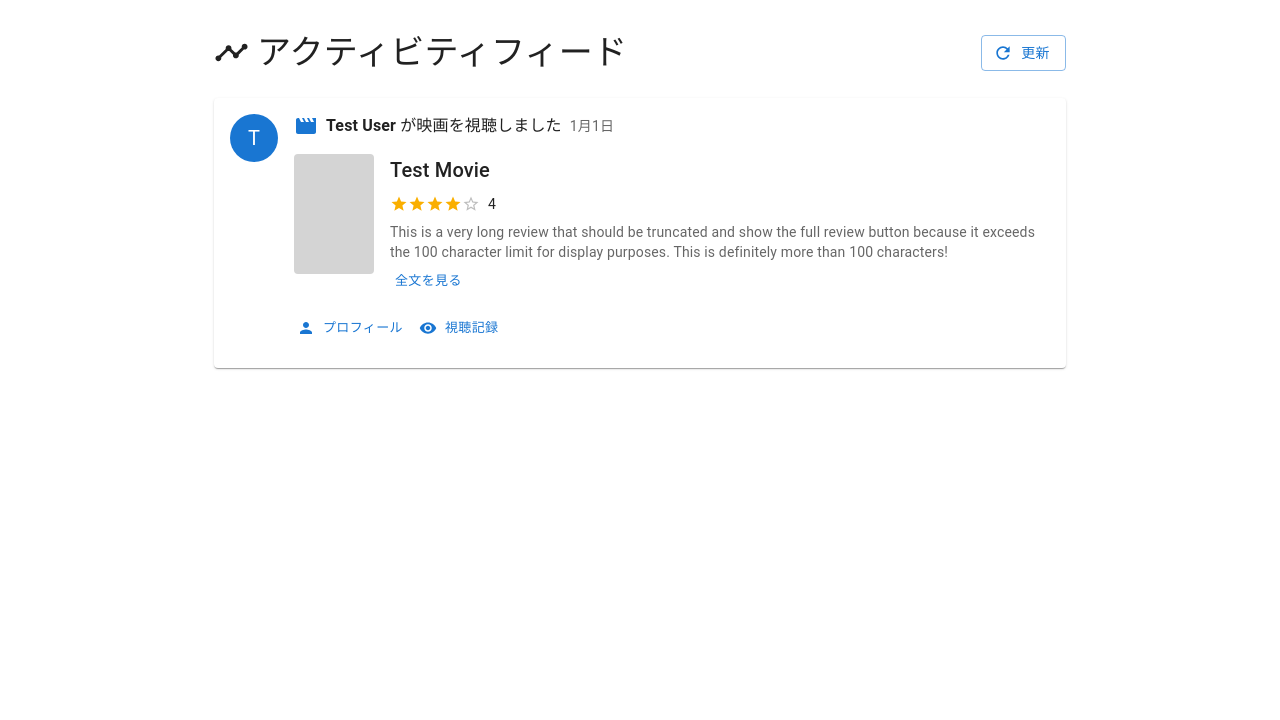
Test: ActivityFeed › handles review dialog functionality
Check: the heading "Test Movie" is shown, box [390,158,490,182]
# Should have "全文を見る" button for long review
Click the button "全文を見る" at (428, 281), box [390,266,467,297]
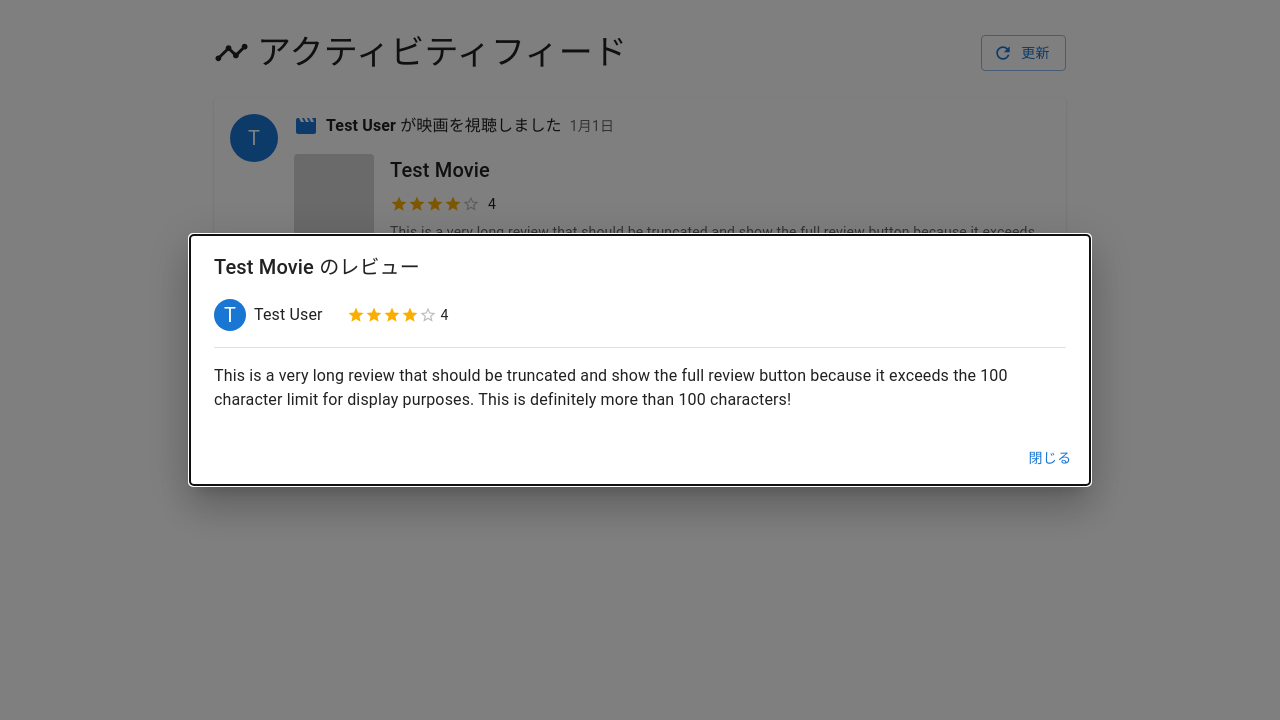
Check: the heading "Test Movie のレビュー" is shown, box [214,255,420,279]
# Close dialog
Click the button "閉じる" at (1050, 459), box [1018,440,1082,477]
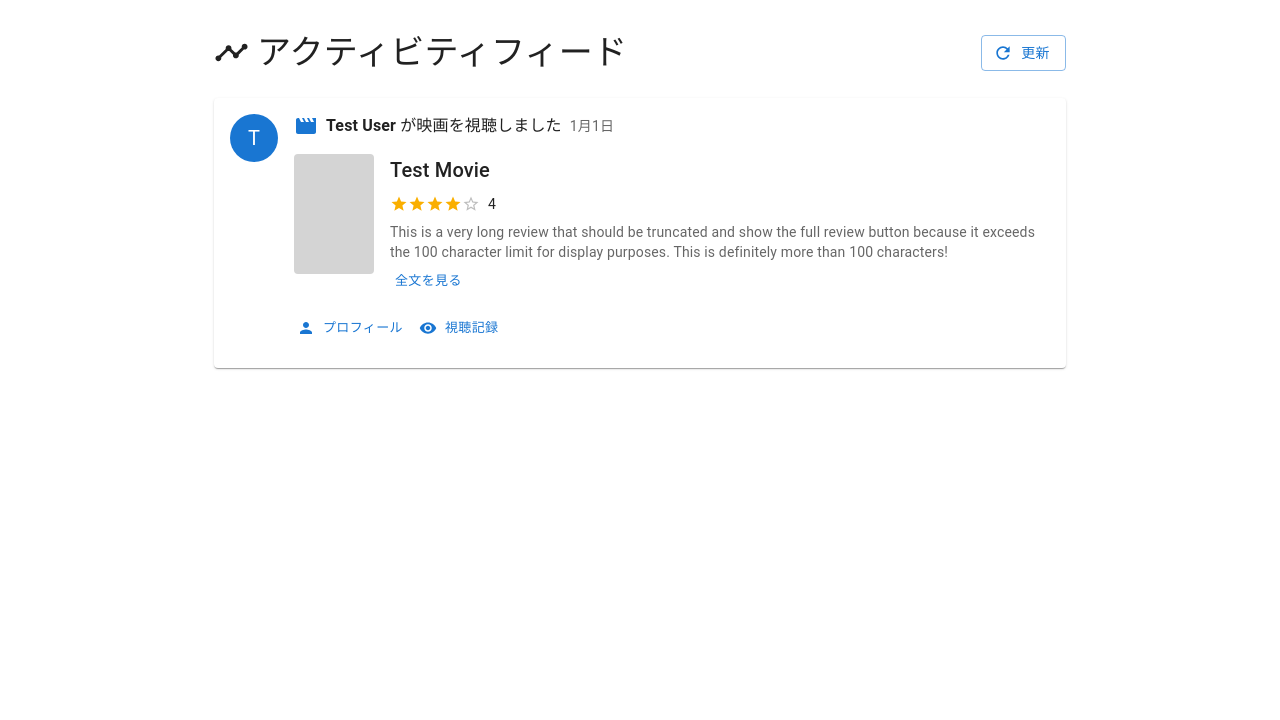
Check: the heading "Test Movie のレビュー" is gone
